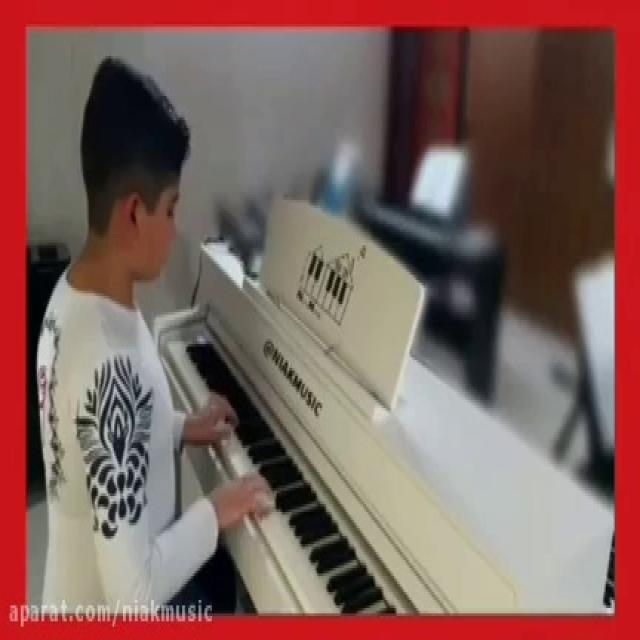Daf: (163, 322, 417, 615)
